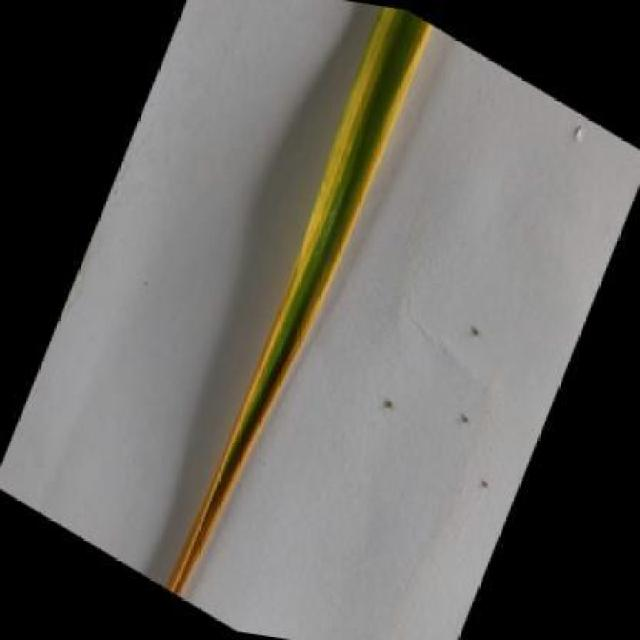Rice False Smut: (158, 0, 457, 625)
